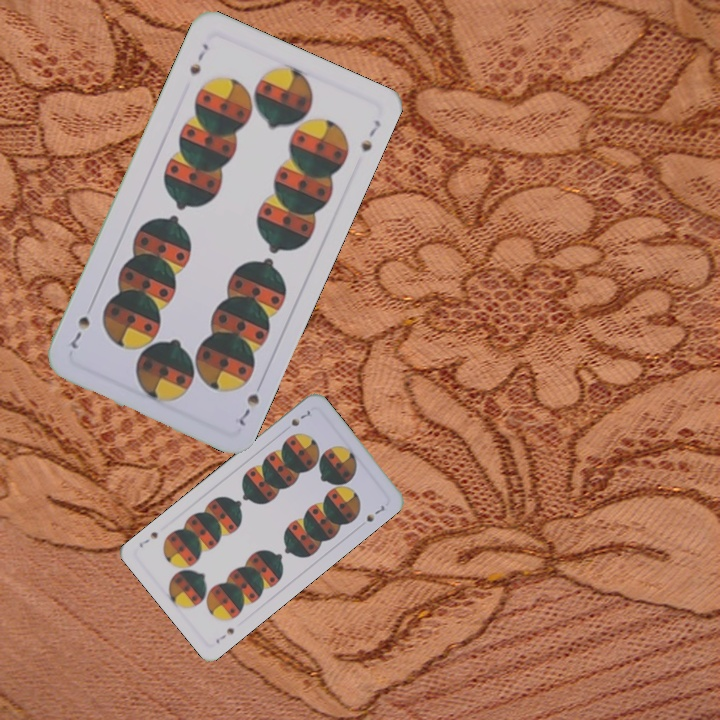S7: (233, 389, 262, 429), (185, 39, 211, 78), (287, 406, 313, 429), (212, 624, 237, 646)
